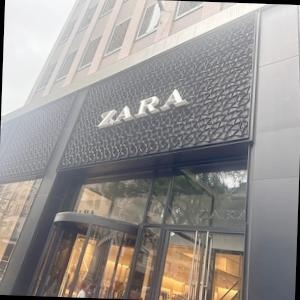zara: (100, 62, 289, 145)
